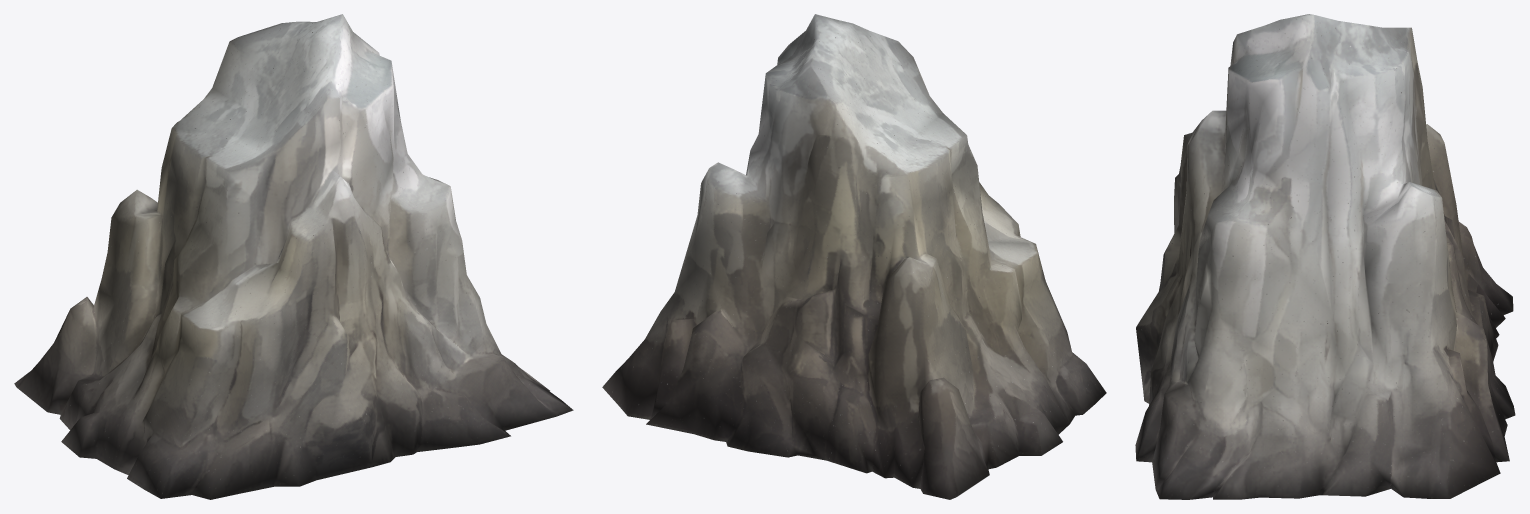
Rendered from peak_snow.glb.
3 renders of one model, left to right at view 1: azimuth 30°, elevation 25°; view 2: azimuth 150°, elevation 25°; view 3: azimuth 270°, elevation 25°, orthographic. The views are drawn at different scales.
Visible parts, largest first — view 1: geometry_0.001; view 2: geometry_0.001; view 3: geometry_0.001.
Part boxes in pixels (x1,y1,x2,y2): geometry_0.001: (14, 14, 573, 499); geometry_0.001: (602, 14, 1106, 499); geometry_0.001: (1135, 14, 1515, 499).
Size of the model in its own units: 1.99 by 1.73 by 1.47.
1 material, 1 textured.
